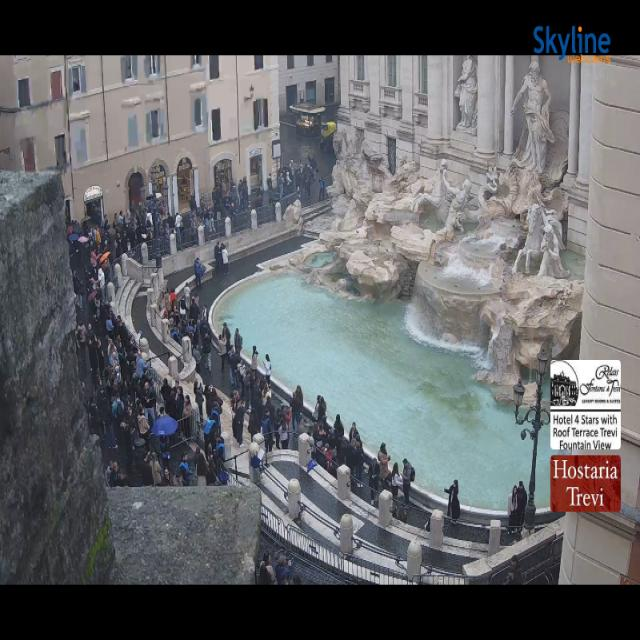person: (252, 382, 283, 449), (100, 337, 139, 384), (157, 290, 191, 336), (116, 332, 140, 397), (158, 292, 199, 330), (228, 350, 253, 411), (85, 246, 103, 327), (85, 275, 105, 344), (110, 339, 129, 409), (83, 217, 110, 265), (239, 364, 263, 418), (96, 337, 127, 374), (132, 206, 154, 257), (238, 352, 256, 411), (330, 431, 353, 475), (98, 300, 115, 358), (312, 425, 332, 472), (243, 363, 262, 412), (391, 464, 407, 522), (100, 358, 121, 402), (88, 336, 107, 384), (116, 337, 135, 385), (96, 377, 111, 435), (265, 397, 281, 449), (108, 397, 124, 449), (238, 362, 254, 412), (229, 348, 245, 397), (164, 291, 185, 328), (160, 388, 183, 421), (120, 420, 133, 475), (226, 180, 248, 212), (158, 295, 180, 327), (170, 300, 186, 343), (112, 212, 127, 257), (204, 409, 219, 454), (337, 439, 355, 475), (221, 180, 238, 218), (101, 337, 121, 369), (209, 386, 222, 435), (250, 372, 263, 421), (291, 384, 304, 432), (225, 179, 245, 210), (445, 479, 459, 523), (157, 291, 175, 325), (89, 396, 104, 436), (137, 405, 150, 451), (232, 399, 245, 445), (312, 418, 335, 444), (230, 177, 248, 210), (167, 384, 183, 421), (221, 179, 237, 216), (238, 177, 255, 211), (204, 385, 222, 417), (239, 364, 251, 411), (88, 337, 100, 384), (234, 178, 251, 211), (208, 399, 223, 436), (245, 364, 259, 403), (144, 382, 156, 427), (378, 443, 390, 488), (403, 459, 415, 504), (114, 353, 127, 394), (228, 179, 244, 211), (196, 305, 211, 339), (201, 325, 212, 371), (105, 368, 122, 397), (261, 411, 273, 452), (95, 219, 109, 254), (105, 460, 123, 487), (353, 440, 363, 488), (228, 349, 240, 389), (140, 453, 155, 485), (132, 373, 146, 407), (369, 458, 379, 504), (323, 442, 336, 477), (76, 325, 86, 370), (517, 482, 527, 527), (507, 556, 523, 584), (288, 162, 302, 194), (275, 556, 291, 584), (195, 448, 207, 485), (186, 318, 199, 352), (89, 229, 100, 269), (313, 423, 327, 454), (73, 272, 84, 311), (508, 485, 517, 532), (182, 396, 192, 438), (252, 185, 270, 208), (277, 404, 291, 432), (215, 191, 228, 221), (392, 463, 403, 498), (191, 210, 207, 234), (179, 453, 191, 485), (215, 433, 225, 471), (159, 292, 172, 321), (217, 335, 227, 372), (227, 193, 241, 219), (159, 436, 170, 469), (140, 212, 152, 242), (77, 324, 95, 344), (248, 411, 260, 441), (263, 553, 275, 583), (81, 382, 91, 418), (239, 176, 249, 212), (151, 453, 162, 485), (116, 316, 129, 343), (116, 316, 128, 345), (283, 166, 295, 195), (392, 500, 407, 523), (108, 337, 119, 368), (229, 391, 239, 425), (180, 285, 190, 319), (194, 258, 205, 288), (117, 316, 129, 343), (194, 380, 203, 416), (106, 460, 118, 487), (160, 378, 171, 407), (124, 208, 138, 230), (258, 562, 272, 584), (256, 562, 270, 584), (189, 297, 199, 327), (136, 351, 147, 378), (296, 170, 305, 203), (207, 456, 217, 485), (306, 155, 317, 181), (312, 396, 323, 422), (223, 195, 234, 221), (176, 386, 184, 421), (128, 219, 137, 250), (192, 343, 201, 374), (135, 220, 146, 245), (162, 211, 175, 232), (114, 228, 123, 258), (279, 419, 288, 449), (281, 405, 291, 432), (349, 423, 361, 445), (241, 177, 249, 210), (222, 323, 231, 352), (98, 267, 106, 299), (113, 472, 130, 487), (318, 396, 327, 424), (175, 212, 182, 248), (212, 186, 222, 211), (229, 180, 239, 205), (223, 323, 231, 354), (214, 240, 221, 275), (279, 165, 288, 192), (306, 172, 314, 202), (250, 455, 261, 476), (334, 415, 344, 438), (157, 202, 169, 221), (221, 244, 228, 274), (264, 355, 271, 384), (263, 380, 271, 405), (308, 155, 317, 177), (304, 155, 312, 179), (161, 468, 172, 485), (234, 329, 242, 352), (159, 222, 167, 245), (251, 345, 258, 371), (86, 323, 95, 341), (106, 316, 113, 339), (169, 289, 175, 315), (172, 473, 183, 487), (256, 186, 263, 208), (103, 217, 111, 235), (189, 195, 196, 215), (172, 329, 181, 344), (145, 211, 152, 230), (278, 173, 283, 199), (319, 177, 324, 201), (158, 406, 168, 418), (118, 211, 125, 227), (158, 406, 167, 418), (65, 211, 71, 227), (288, 159, 294, 175), (113, 213, 119, 227), (319, 177, 322, 201)
